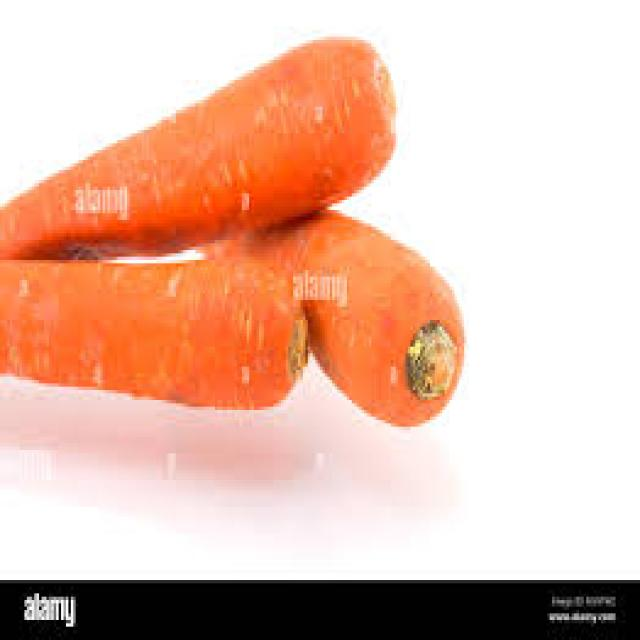Stale_Carrot: (332, 276, 473, 413)
